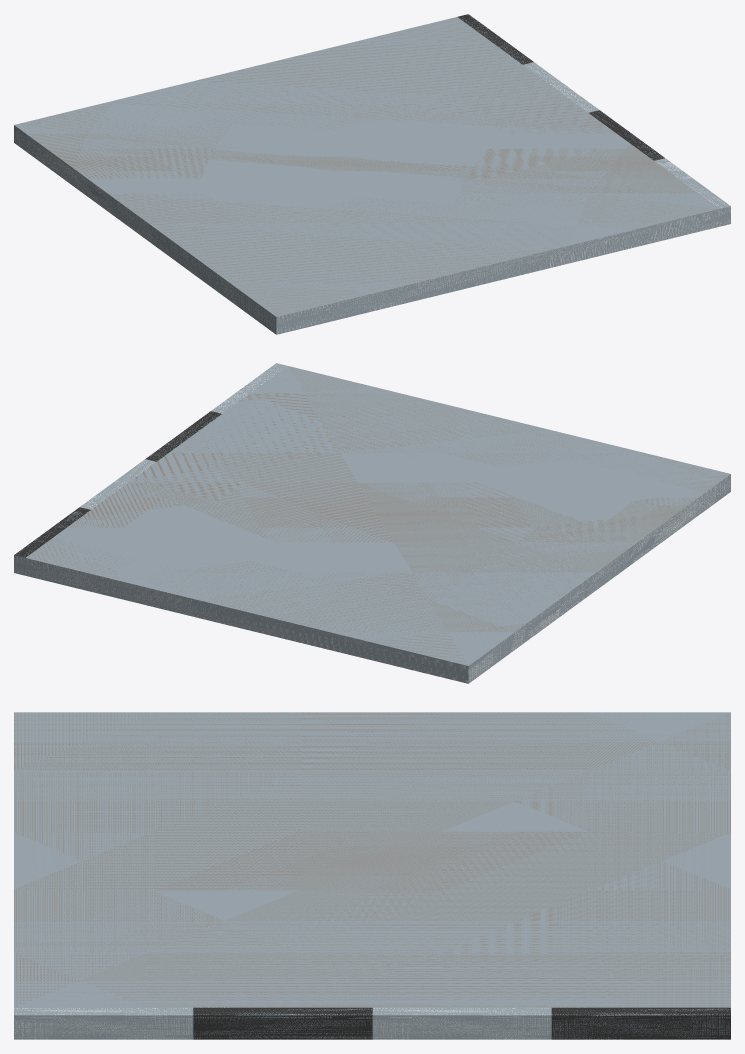
Rendered from curb_walkway.fbx.
The picture shows the model from 3 angles, top to bottom: view 1: azimuth 30°, elevation 25°; view 2: azimuth 150°, elevation 25°; view 3: azimuth 270°, elevation 25°; orthographic projection. The views are drawn at different scales.
Visible parts, largest first — view 1: Group1; view 2: Group1; view 3: Group1.
Part boxes in pixels (x1,y1,x2,y2): Group1: (14, 14, 730, 334); Group1: (14, 363, 730, 683); Group1: (14, 712, 730, 1039).
Bounding box in the file's own units: 4 × 0.15 × 4.
